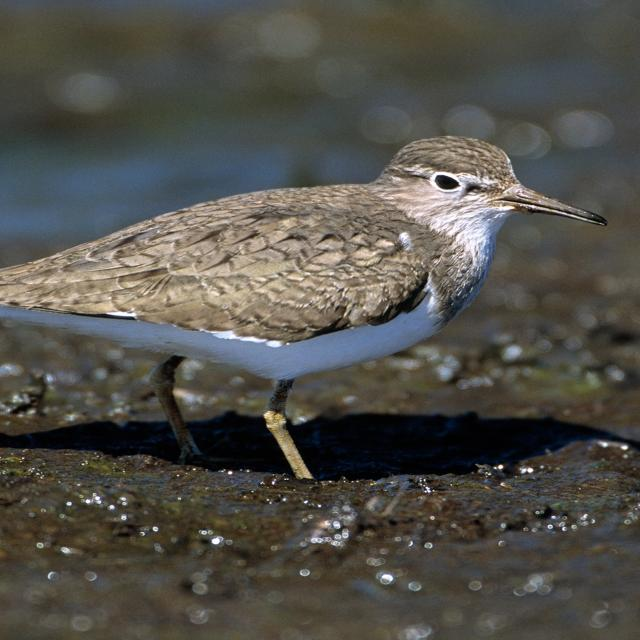Sandpiper: (0, 130, 603, 478)
